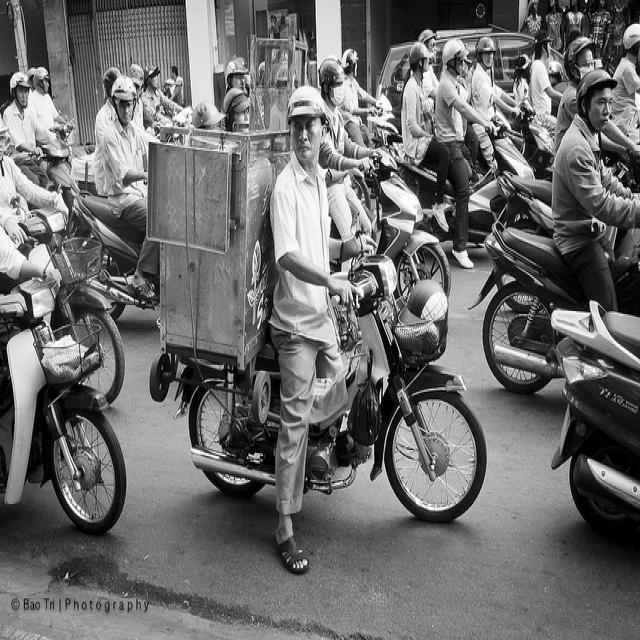motor: (147, 195, 488, 524), (0, 276, 126, 541), (10, 186, 124, 407), (547, 296, 640, 540), (472, 210, 588, 398), (383, 127, 536, 245), (359, 145, 452, 311), (489, 163, 636, 231), (69, 190, 150, 309), (514, 101, 555, 181), (40, 132, 82, 192), (612, 225, 640, 314)
